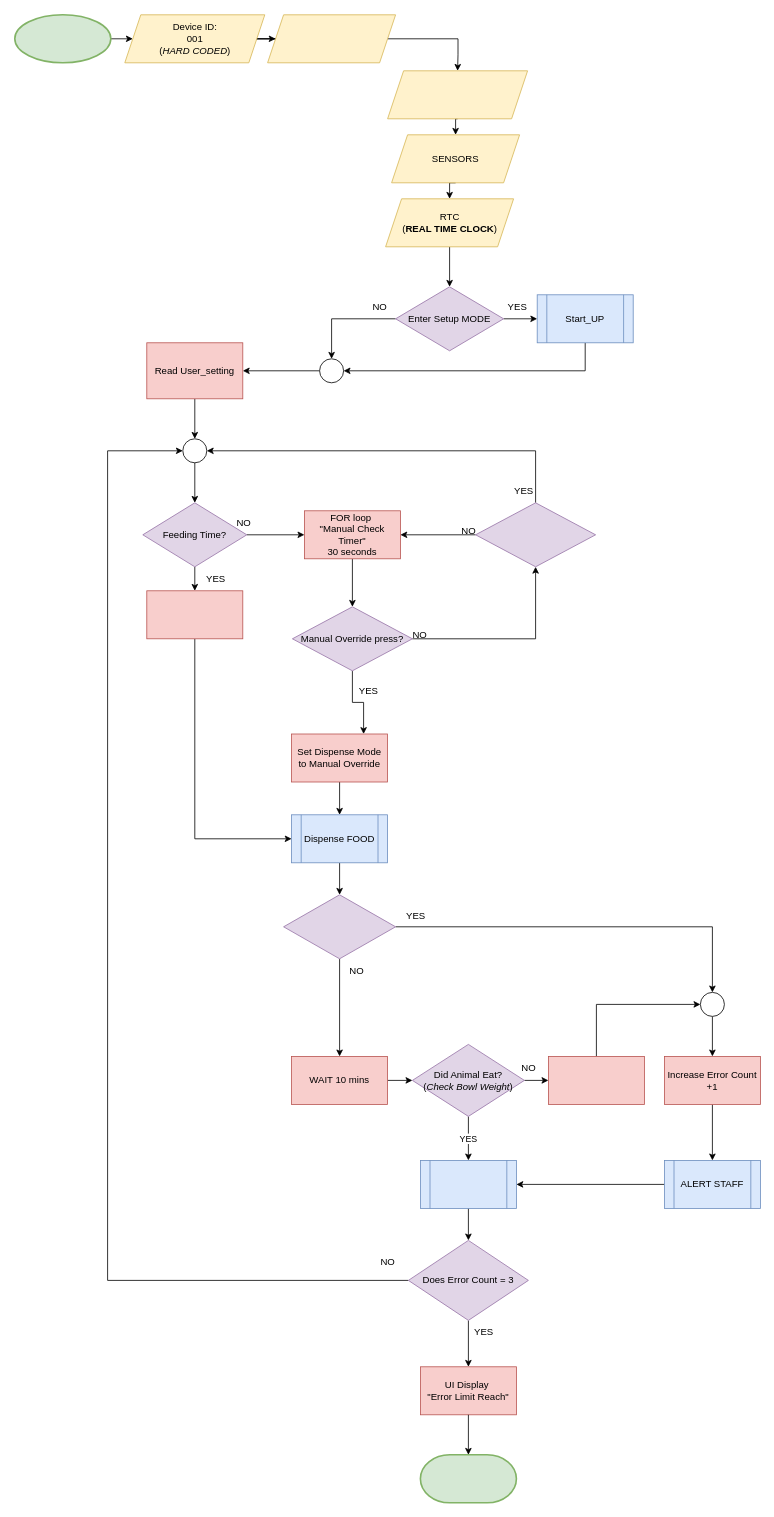
Image size: 774x1517. Some labels were removed from this diagram. Here are the shapes that lost their labels. From the top down, the centre of each, then its label:
(x=62, y=38): Start
(x=331, y=38): USER INTERFACE (UI)
(x=457, y=94): Manual Override Button
(x=535, y=534): Manual Check timer 30 seconds?
(x=194, y=614): Set Dispense Mode to Scheduled
(x=339, y=926): Check Error State
(x=596, y=1080): Set Error Code = ER04
(x=468, y=1184): Write LOG
(x=468, y=1478): End
